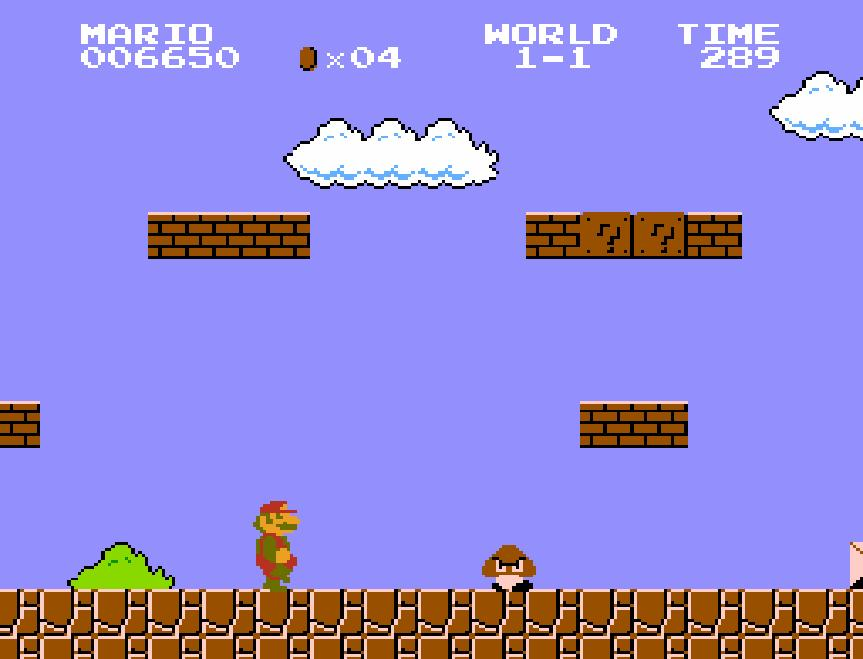big_mario: (247, 496, 305, 594)
